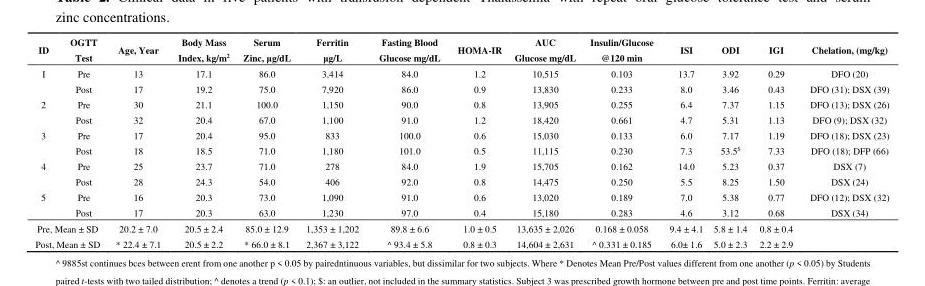table: (34, 35, 888, 249)
table column: (800, 35, 888, 249), (368, 35, 448, 249), (582, 35, 660, 249), (507, 35, 582, 249), (297, 35, 368, 249), (168, 35, 235, 249), (235, 35, 297, 249), (107, 35, 168, 249), (448, 35, 507, 249), (58, 35, 107, 249), (752, 35, 800, 249), (660, 35, 707, 249), (707, 35, 752, 249), (34, 35, 58, 249)
table column header: (34, 35, 888, 65)
table row: (34, 35, 888, 65), (34, 95, 888, 111), (34, 126, 888, 142), (34, 157, 888, 173), (34, 188, 888, 204), (34, 219, 888, 235), (34, 65, 888, 80), (34, 80, 888, 95), (34, 111, 888, 126), (34, 142, 888, 157), (34, 173, 888, 188), (34, 204, 888, 219), (34, 235, 888, 249)
table spanning cell: (34, 219, 107, 235), (34, 235, 107, 249), (34, 95, 58, 126), (34, 126, 58, 157), (34, 157, 58, 188), (34, 188, 58, 219), (34, 65, 58, 95)
